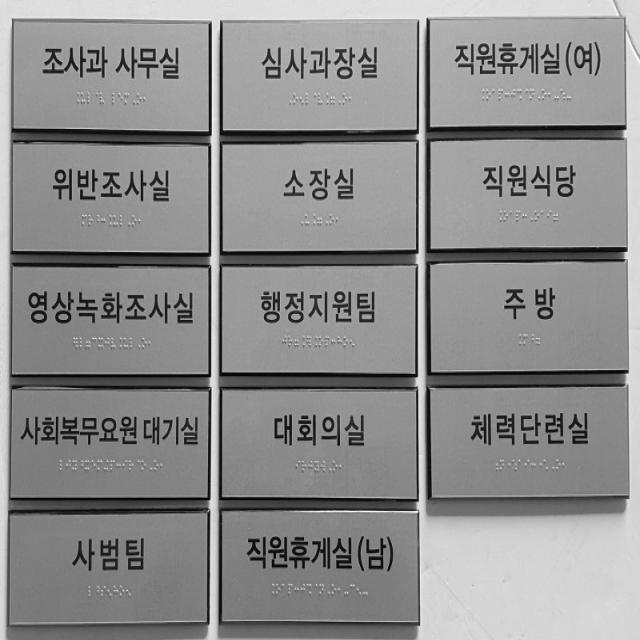braiile: (82, 214, 93, 227), (73, 91, 80, 105), (80, 91, 86, 105), (86, 91, 92, 105), (99, 91, 105, 105), (130, 336, 136, 350), (148, 336, 154, 350), (142, 336, 148, 350), (78, 458, 84, 472), (268, 582, 274, 596), (282, 582, 288, 596), (293, 582, 299, 596), (356, 582, 362, 596), (362, 582, 368, 596), (518, 458, 524, 472), (543, 458, 549, 472), (556, 458, 562, 472), (562, 458, 568, 472), (119, 215, 125, 228), (79, 336, 85, 349), (98, 336, 104, 349), (104, 336, 110, 349), (110, 336, 116, 349), (59, 459, 65, 472), (97, 459, 103, 472), (116, 459, 122, 472), (122, 459, 128, 472), (128, 459, 134, 472), (141, 459, 147, 472), (153, 459, 159, 472), (113, 585, 119, 598), (119, 585, 125, 598), (306, 583, 312, 596), (496, 210, 502, 223), (499, 459, 505, 472), (512, 459, 518, 472), (536, 459, 542, 472), (295, 460, 301, 473), (320, 460, 326, 473), (332, 460, 338, 473), (124, 93, 130, 105), (136, 93, 142, 105), (298, 93, 304, 105), (485, 89, 491, 101), (498, 89, 504, 101), (504, 89, 510, 101), (560, 88, 566, 100), (566, 88, 572, 100), (94, 586, 100, 598), (298, 213, 304, 225), (534, 210, 540, 222), (540, 210, 546, 222), (528, 210, 534, 222), (522, 334, 528, 346), (535, 334, 541, 346), (524, 459, 530, 471), (549, 459, 555, 471), (132, 214, 137, 228), (136, 336, 141, 350), (85, 458, 90, 472), (288, 582, 293, 596), (300, 582, 305, 596), (344, 582, 349, 596), (350, 582, 355, 596), (93, 92, 98, 105), (112, 92, 117, 105), (542, 88, 547, 101), (107, 214, 112, 227), (113, 214, 118, 227), (126, 215, 131, 228), (138, 215, 143, 228), (73, 336, 78, 349), (86, 336, 91, 349), (92, 336, 97, 349), (66, 459, 71, 472), (91, 459, 96, 472), (110, 459, 115, 472), (135, 459, 140, 472), (160, 459, 165, 472), (107, 585, 112, 598), (101, 585, 106, 598), (126, 585, 131, 598), (276, 583, 281, 596), (319, 583, 324, 596), (311, 212, 316, 225), (317, 212, 322, 225), (493, 459, 498, 472), (506, 459, 511, 472), (302, 460, 307, 473), (314, 460, 319, 473), (118, 93, 123, 105), (293, 93, 298, 105), (324, 92, 329, 104), (330, 93, 335, 105), (511, 89, 516, 101), (517, 89, 522, 101), (529, 88, 534, 100), (554, 88, 559, 100), (72, 459, 77, 471), (88, 586, 93, 598), (337, 582, 341, 597), (305, 213, 310, 225), (329, 213, 334, 225), (282, 336, 287, 348), (294, 336, 299, 348), (510, 210, 515, 222), (516, 210, 521, 222), (522, 210, 527, 222), (553, 210, 558, 222), (547, 210, 552, 222), (529, 334, 534, 346), (531, 459, 536, 471), (327, 460, 332, 472), (339, 461, 344, 473), (118, 336, 122, 350), (313, 582, 317, 596), (326, 582, 330, 596), (332, 582, 336, 596), (325, 336, 330, 347), (143, 92, 147, 105), (101, 214, 105, 227), (124, 336, 128, 349), (104, 459, 108, 472), (148, 459, 152, 472), (288, 335, 292, 348), (301, 335, 305, 348), (307, 335, 311, 348), (314, 335, 318, 348), (504, 210, 508, 223), (308, 460, 312, 473), (132, 93, 136, 105), (318, 93, 322, 105), (343, 92, 347, 104), (480, 89, 484, 101), (524, 88, 528, 100), (536, 88, 540, 100), (547, 88, 551, 100), (95, 214, 99, 226), (324, 213, 328, 225), (338, 336, 342, 348), (344, 336, 348, 348), (350, 336, 354, 348), (517, 334, 521, 346), (287, 94, 291, 105), (312, 93, 316, 104), (337, 93, 341, 104), (319, 336, 323, 347), (332, 336, 336, 347), (306, 93, 309, 105), (348, 92, 351, 104), (492, 89, 495, 101), (335, 213, 338, 225)
